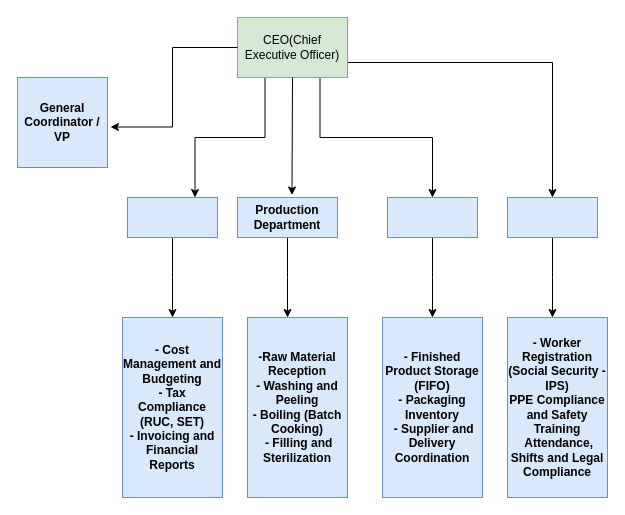
Some shapes in this 625 by 515 pixel diagram are drawn without their labels. The centre of each missing label's shape, as x and y in pixels:
Finance and Administration Department: the point at 172,217
Human Resources Department: the point at 552,217
Logistics and Inventory Department: the point at 432,217
